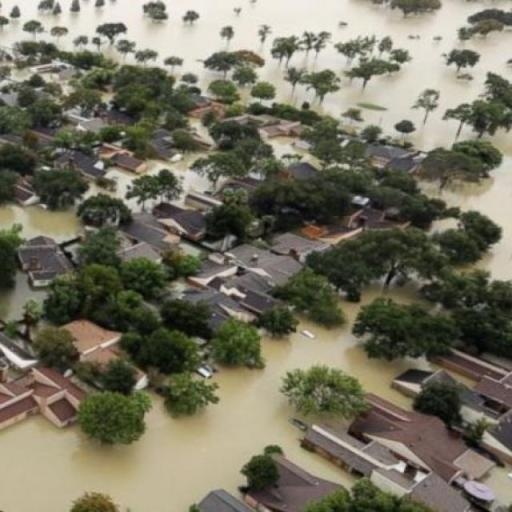flood: (0, 287, 431, 512), (0, 0, 512, 149), (421, 130, 512, 280), (0, 203, 82, 243), (149, 152, 215, 196), (82, 167, 143, 213), (0, 270, 47, 322), (265, 136, 322, 169), (385, 286, 422, 304)
house: (358, 398, 468, 484), (244, 448, 351, 512), (425, 340, 512, 383), (230, 242, 304, 292), (65, 319, 127, 376), (20, 238, 72, 286), (32, 380, 79, 431), (194, 287, 260, 323), (159, 207, 210, 240), (197, 487, 263, 512), (112, 152, 146, 173), (373, 144, 401, 167)
